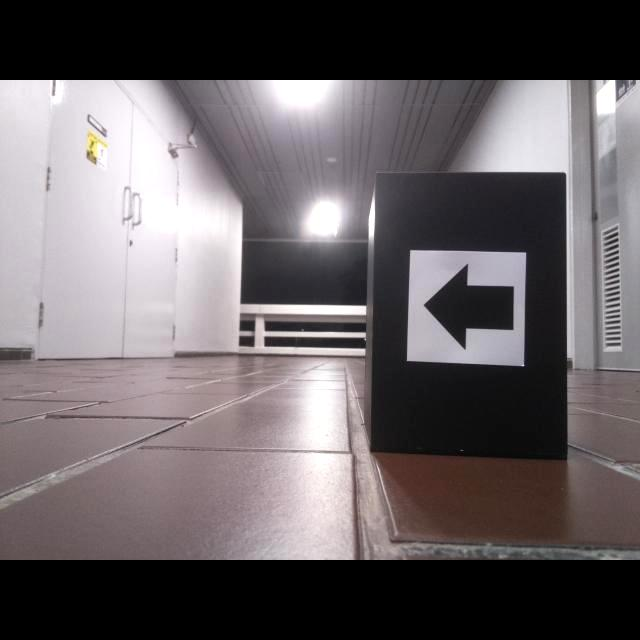LEFT: (422, 262, 514, 352)
